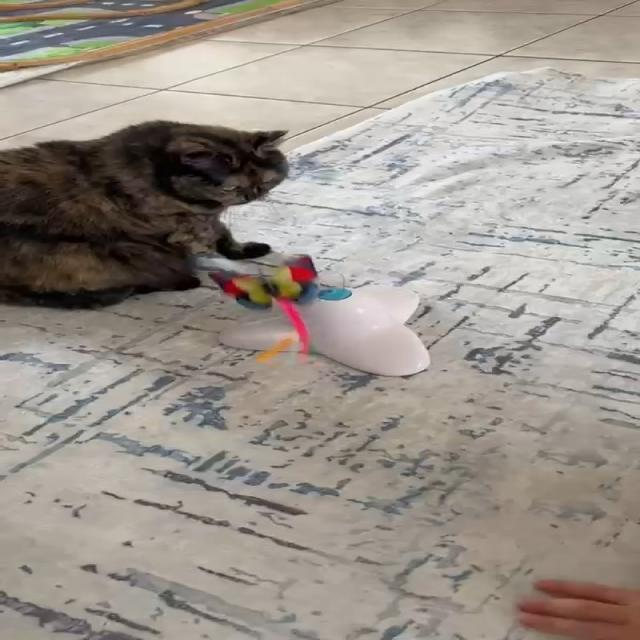authorized: (0, 118, 289, 309)
